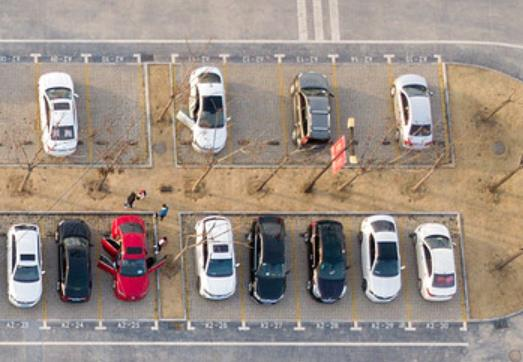car: (99, 215, 165, 304), (176, 65, 230, 155), (32, 69, 87, 156), (191, 214, 240, 303), (357, 214, 404, 306), (303, 217, 351, 307), (409, 221, 458, 305), (286, 68, 336, 148), (52, 217, 96, 305), (388, 71, 437, 150), (247, 214, 289, 306), (5, 223, 47, 312)
